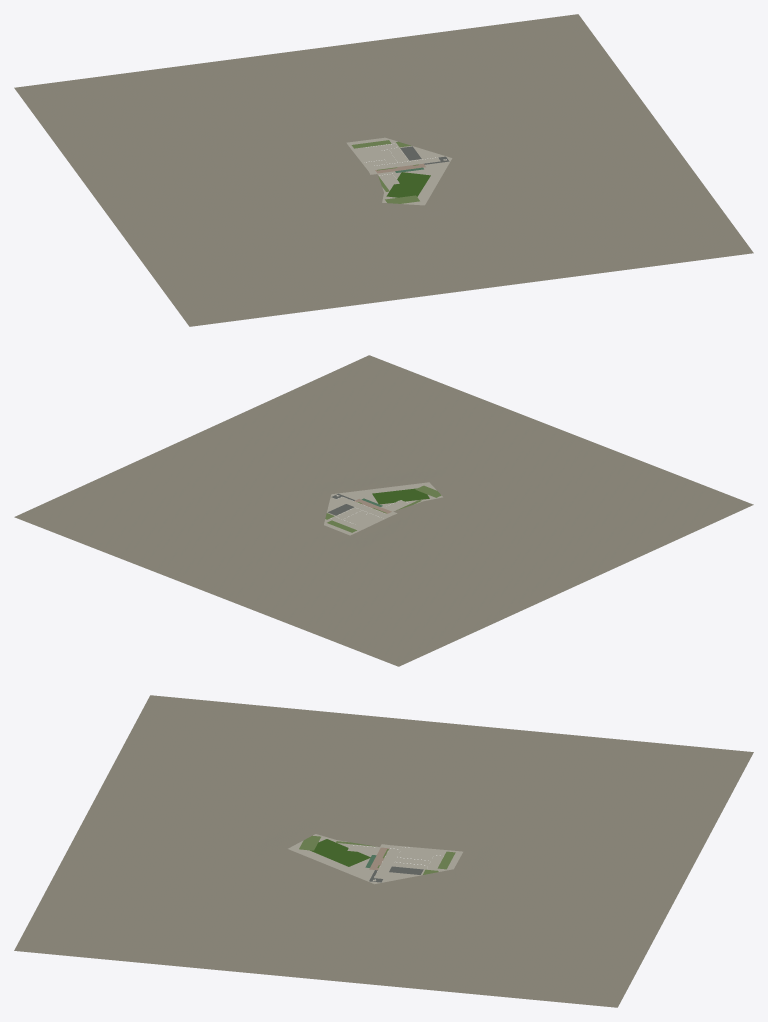
3 renders of one model, top to bottom at view 1: azimuth 30°, elevation 25°; view 2: azimuth 150°, elevation 25°; view 3: azimuth 270°, elevation 25°, orthographic. The views are drawn at different scales.
Visible parts, largest first — view 1: ground_context-estimated, surface_school-paved-walk, surface_sports-field; view 2: ground_context-estimated, surface_school-paved-walk, surface_sports-field; view 3: ground_context-estimated, surface_school-paved-walk, surface_sports-field.
Part boxes in pixels (x1=…): ground_context-estimated: x1=14, y1=14, x2=753, y2=326; surface_school-paved-walk: x1=346, y1=137, x2=452, y2=205; surface_sports-field: x1=386, y1=172, x2=430, y2=197; ground_context-estimated: x1=14, y1=355, x2=753, y2=666; surface_school-paved-walk: x1=324, y1=482, x2=442, y2=535; surface_sports-field: x1=372, y1=488, x2=429, y2=504; ground_context-estimated: x1=14, y1=695, x2=753, y2=1007; surface_school-paved-walk: x1=288, y1=834, x2=462, y2=884; surface_sports-field: x1=310, y1=839, x2=370, y2=866.
Bounding box in the file's own units: 861 × 1.51 × 861.
Materials: 7 (7 with a texture image).
